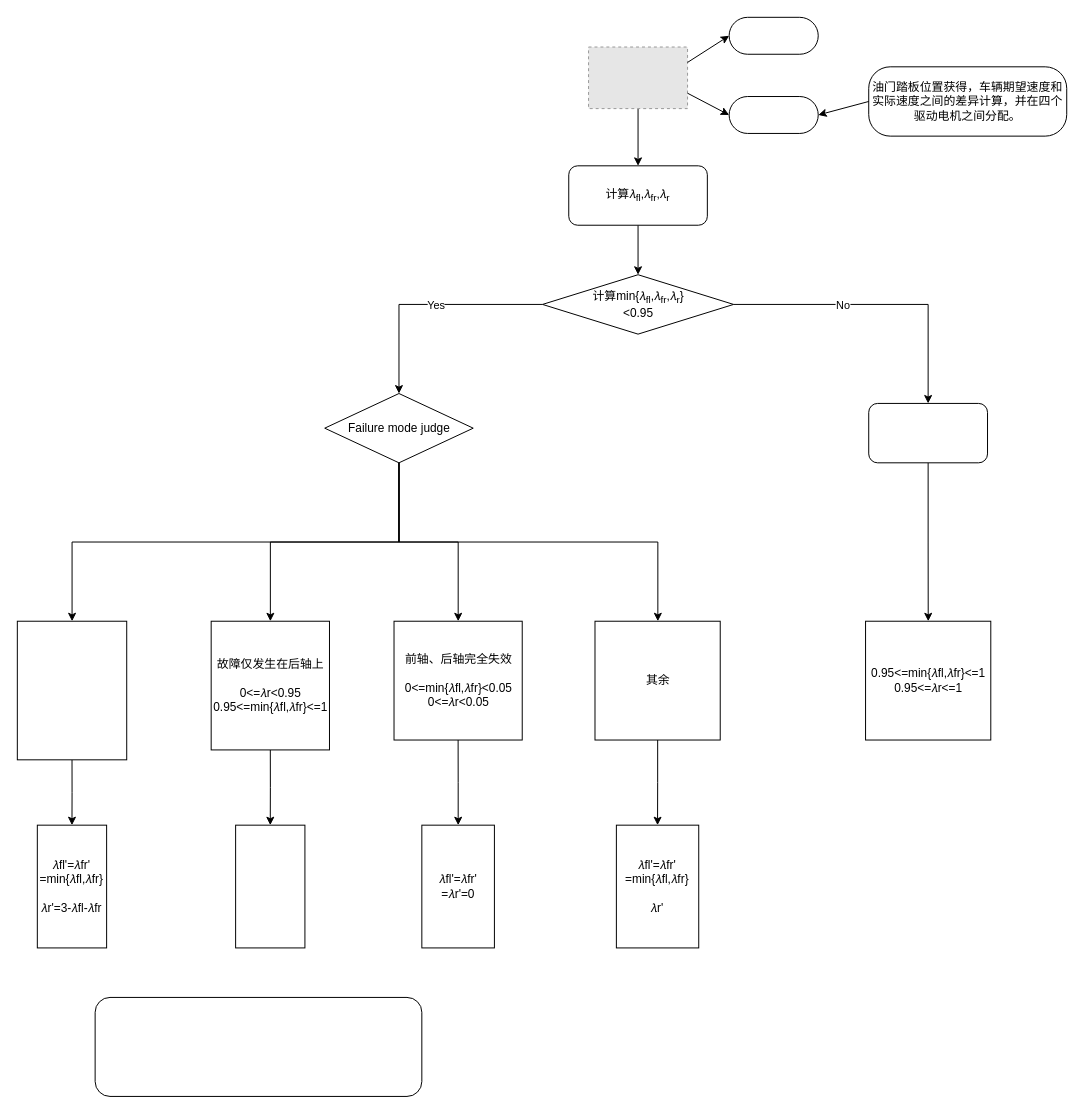
The diagram is 1084 pixels wide and 1114 high, and some of its shapes have lost their labels. Grey dashed boxes stand in for pictures. Here are the shapes that lost their labels. From the top down, the box of each, then its label:
(728, 16, 818, 54): 实际输出扭矩
(728, 96, 818, 133): 期望输出扭矩
(868, 402, 988, 463): Normal
(16, 620, 127, 760): 故障仅发生在前轴上 0<=min{ 𝜆fl,𝜆fr }<0.95 0.95<= 𝜆r <=1
(235, 824, 305, 948): 𝜆fl'=𝜆fr' =1/2(3- 𝜆r' ) 𝜆r'
(94, 996, 422, 1096): T i =1/3𝜆 i 'T d (i=fl,fr,r)
